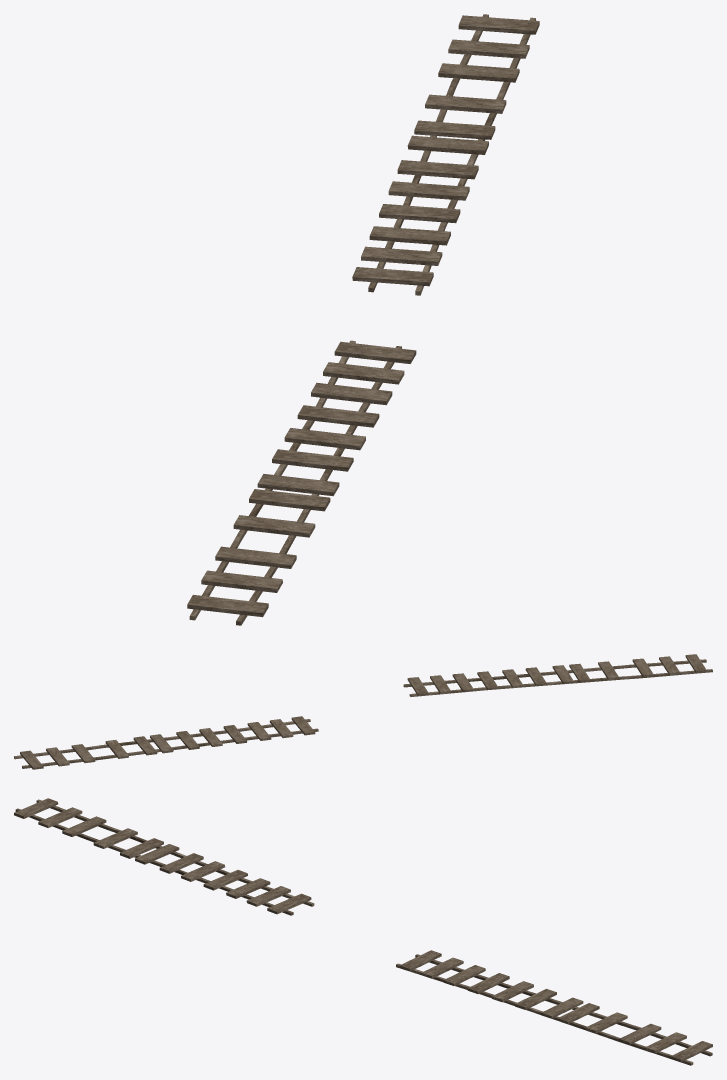
File: Ladders-transformed.glb
3 views of the same model, one above another, from view 1: azimuth 30°, elevation 25°; view 2: azimuth 150°, elevation 25°; view 3: azimuth 270°, elevation 25° (orthographic). The views are drawn at different scales.
Visible parts, largest first — view 1: Leiter_LP_grp1.001; view 2: Leiter_LP_grp1.001; view 3: Leiter_LP_grp1.001.
Boxes of the visible parts, box(x1,y1,x2,y2) form: Leiter_LP_grp1.001: box(187, 14, 539, 625); Leiter_LP_grp1.001: box(14, 654, 712, 769); Leiter_LP_grp1.001: box(14, 798, 712, 1065).
Size of the model in its own units: 8.99 by 0.3994 by 10.07.
Materials: 1 (1 with a texture image).
